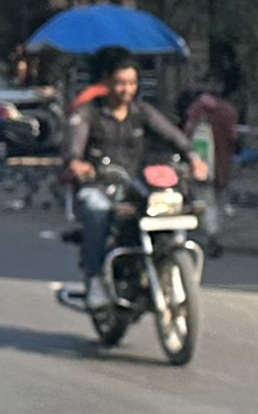BikeWithRider: (33, 40, 216, 370)
NoHelmet: (85, 42, 149, 108)
